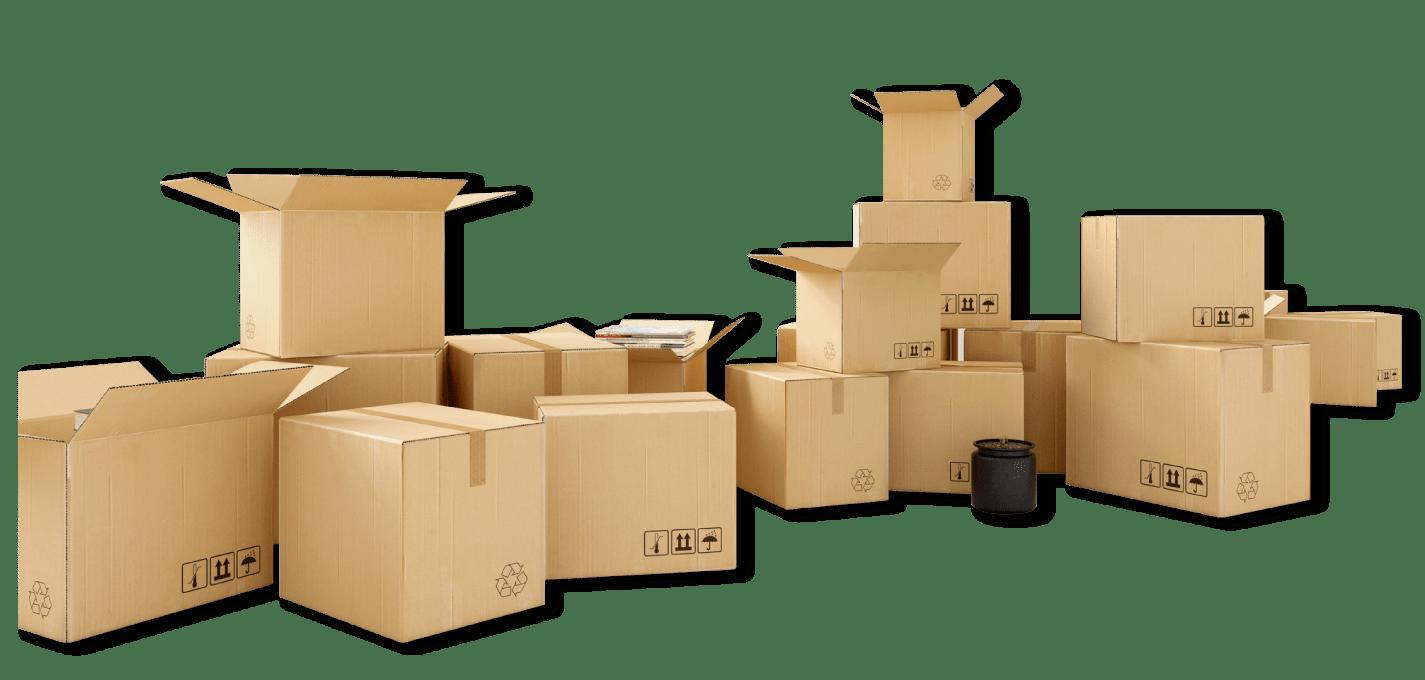box: (19, 365, 275, 637), (175, 145, 484, 366), (277, 407, 546, 652), (1059, 335, 1325, 520), (533, 394, 735, 576), (245, 377, 443, 561), (749, 229, 955, 372), (720, 361, 902, 517), (1069, 201, 1263, 340), (871, 350, 1034, 502), (848, 193, 1015, 335), (1021, 317, 1128, 480), (857, 87, 992, 209), (449, 322, 613, 414), (1267, 306, 1397, 412), (597, 317, 709, 411)
